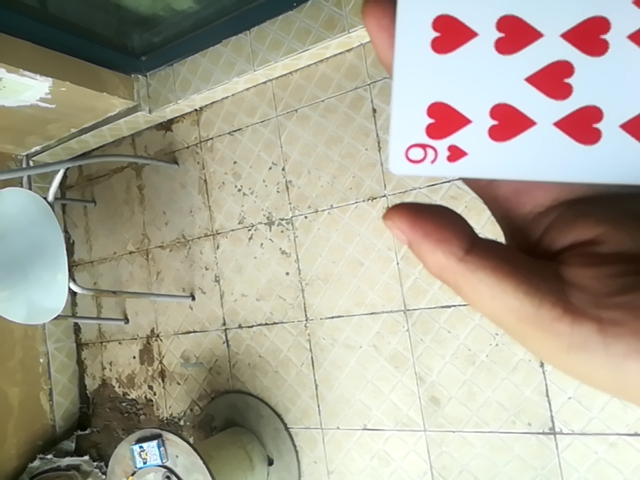hx 9: (377, 0, 640, 189)
